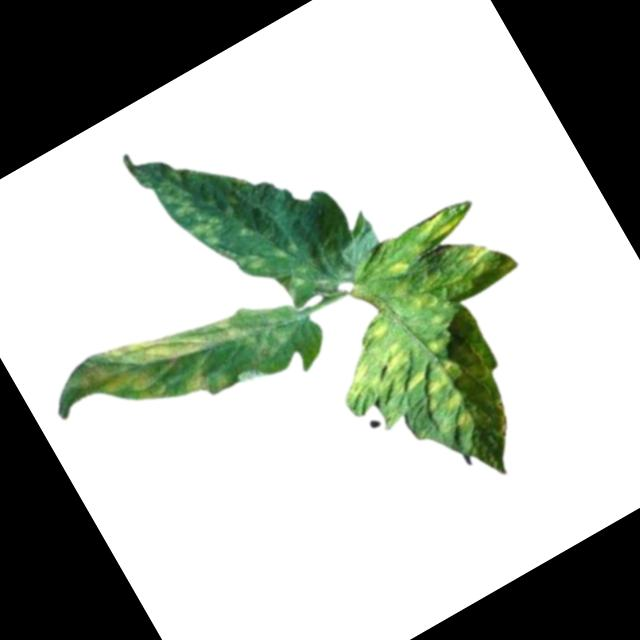Leaf_Mold: (307, 224, 608, 527), (66, 280, 267, 452), (148, 155, 237, 261), (401, 201, 467, 256)
